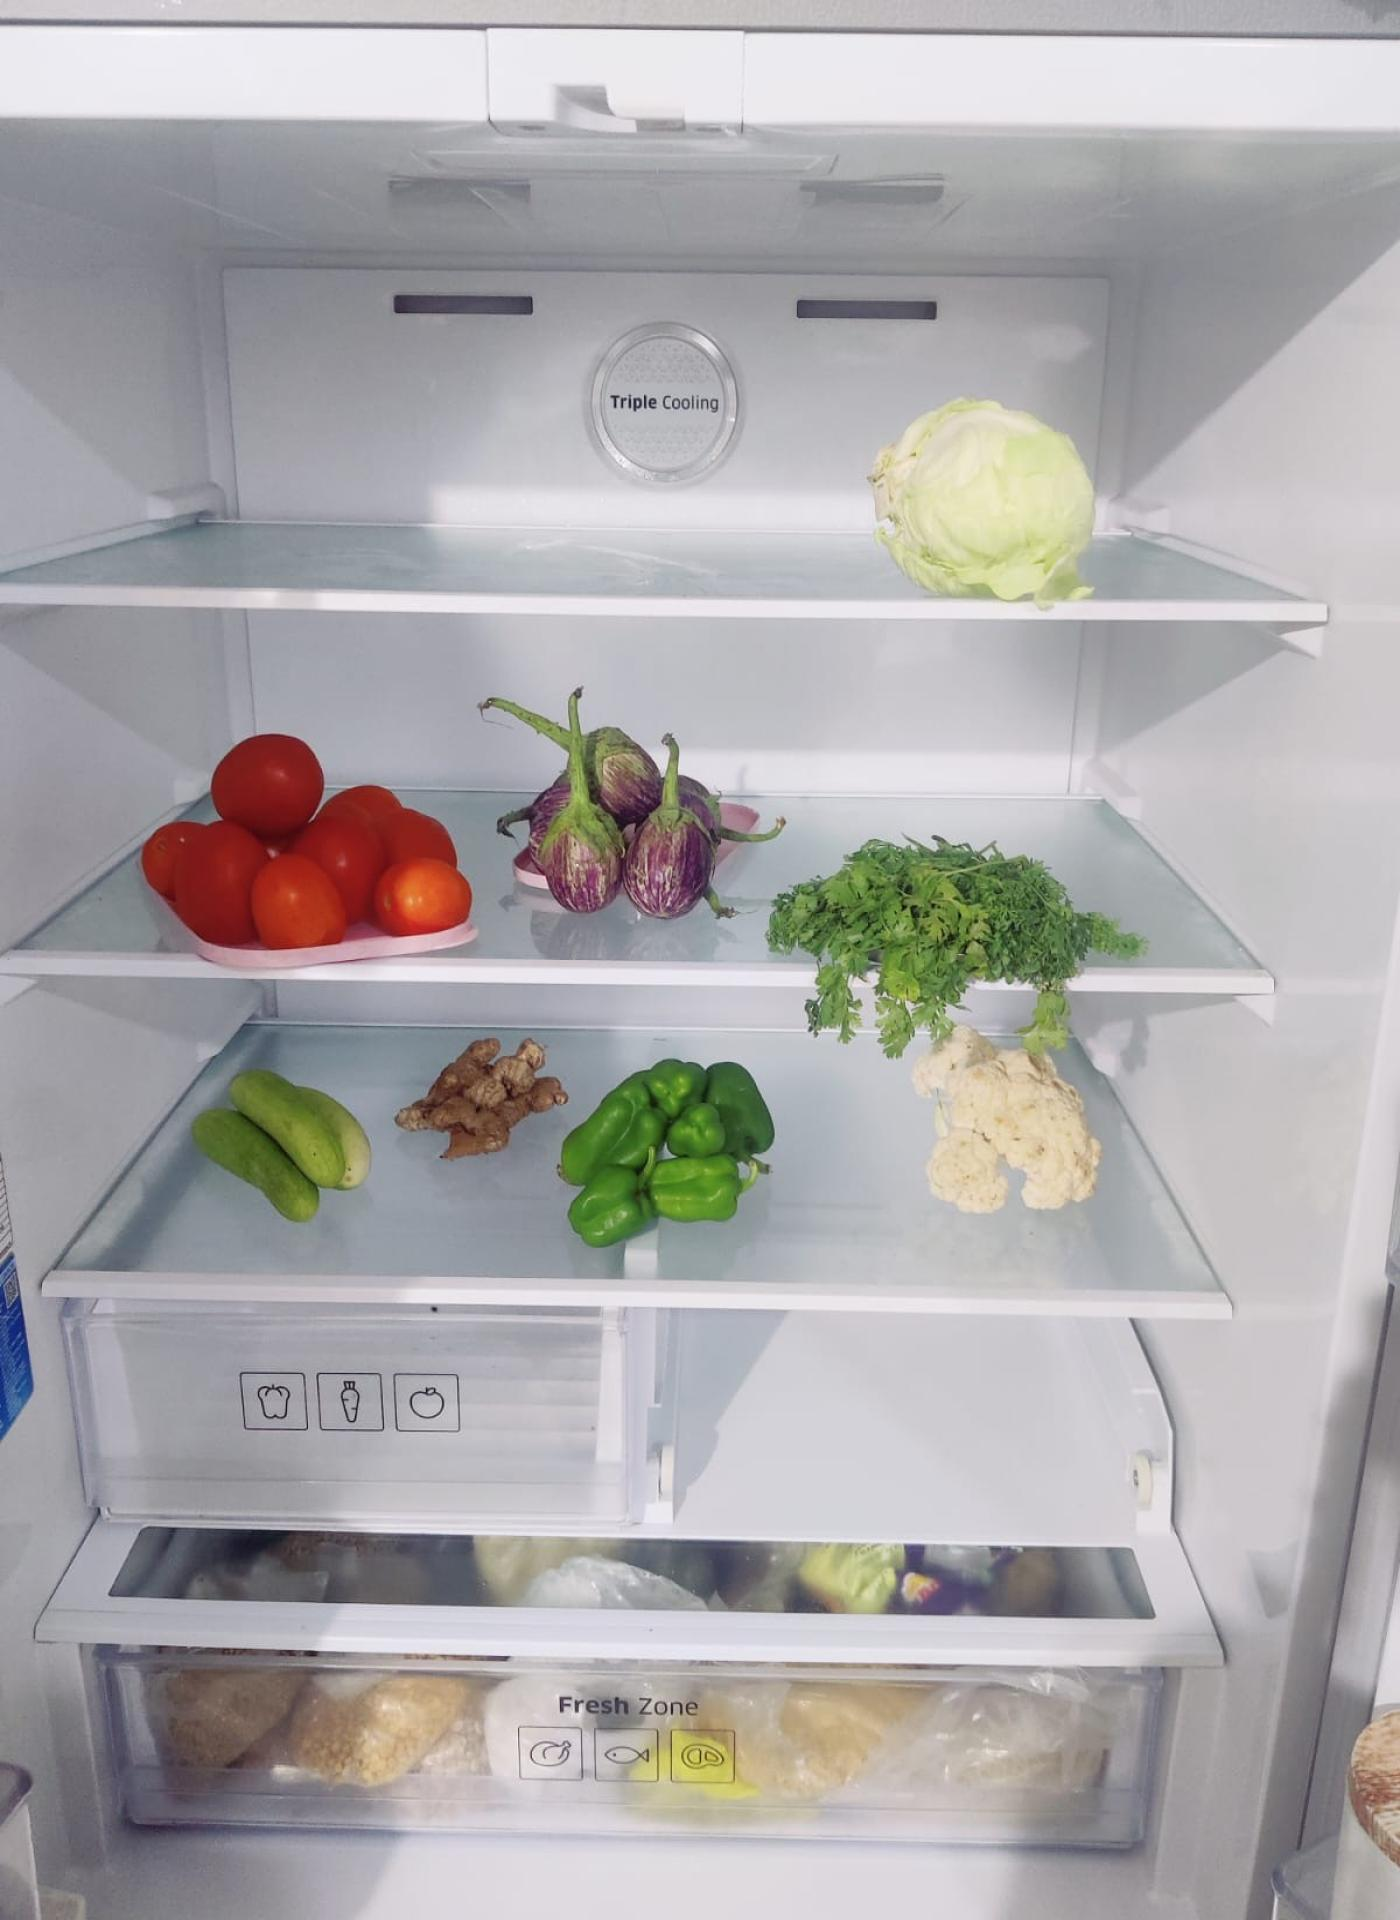brinjal: (529, 732, 725, 921)
cabbage: (872, 395, 1096, 599)
capsicum: (564, 1054, 772, 1239)
cauliflower: (920, 1027, 1103, 1209)
coriander: (774, 848, 1114, 1020)
cucumber: (191, 1067, 376, 1222)
ginger: (394, 1035, 564, 1161)
tomato: (151, 733, 470, 951)
